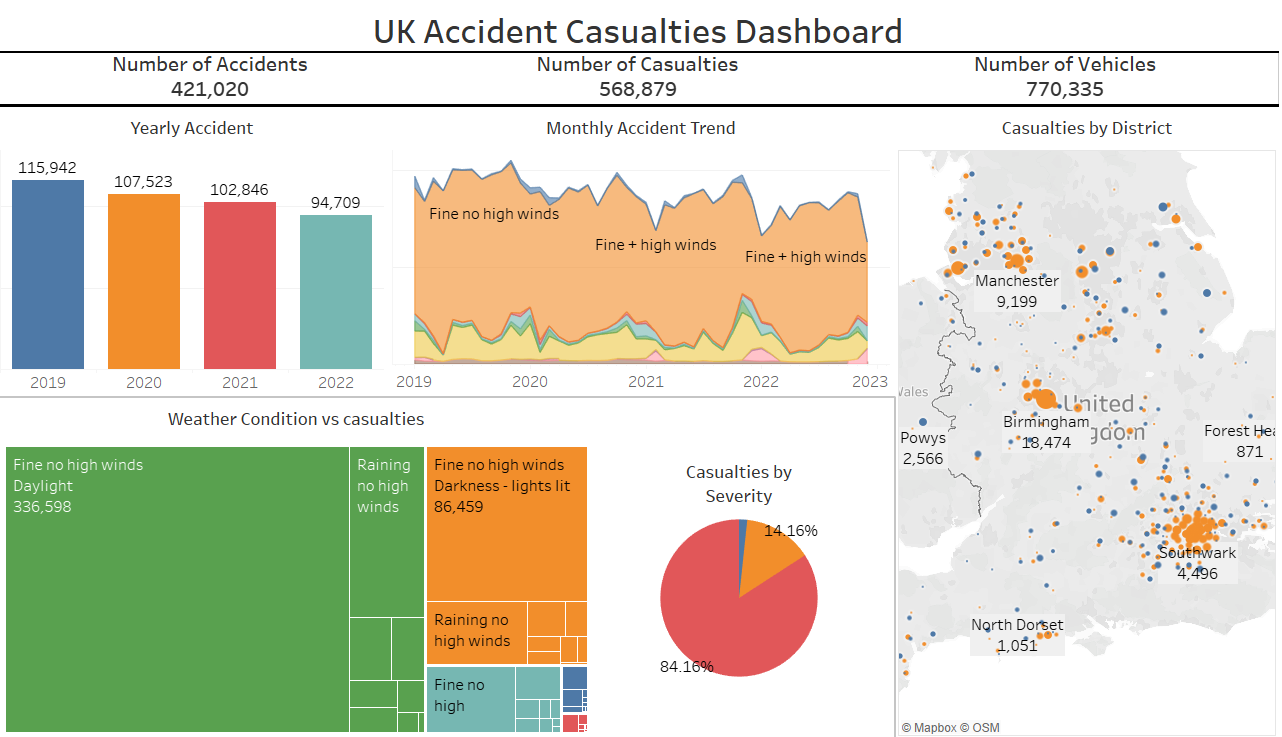

What the dashboard file says about the page in this screenshot:
{"tool":"tableau","page":{"name":"Dashboard","canvas":[1000,1000],"units":"permille","ordinal":0},"visuals":[{"type":"title","box":[6.2,10.7,987.7,58.2]},{"type":"worksheet","title":"KPI","mark":"Automatic","box":[6.2,68.9,987.7,75.1]},{"type":"worksheet","title":"bar chart","mark":"Bar","rows":["Index"],"cols":["Accident Date"],"box":[6.2,144,301.5,388]},{"type":"worksheet","title":"line chart","mark":"Area","rows":["Index"],"cols":["Accident Date"],"box":[307.7,144,388.9,388]},{"type":"worksheet","title":"map","mark":"Automatic","rows":["Latitude"],"cols":["Longitude"],"box":[696.6,144,297.2,845.4]},{"type":"worksheet","title":"heatmap","mark":"Automatic","box":[6.2,532,690.5,457.4]},{"type":"worksheet","title":"pie chart","mark":"Pie","box":[516.1,608,169.2,380]}]}

Visuals, with their boxes on the dashboard's canvas, which has no fixed pixel size, in thousandths of its width and height (x1, y1, x2, y2). These are canvas units, not pixel positions in the 1282x737 screenshot, which may show the page scaled, cropped or inside an application window:
title: <box>6,11,994,69</box>
"KPI" worksheet: <box>6,69,994,144</box>
"bar chart" worksheet (Bar marks): <box>6,144,308,532</box>
"line chart" worksheet (Area marks): <box>308,144,697,532</box>
"map" worksheet: <box>697,144,994,989</box>
"heatmap" worksheet: <box>6,532,697,989</box>
"pie chart" worksheet (Pie marks): <box>516,608,685,988</box>
